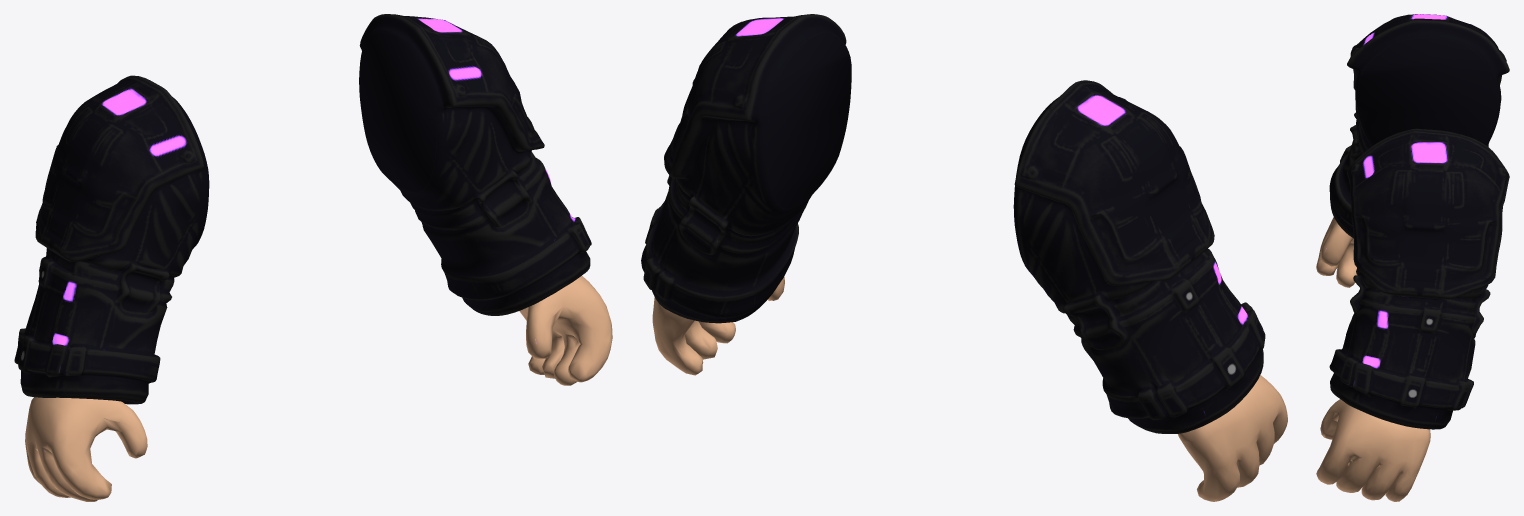
File: Hand_low.glb
3 renders of one model, left to right at view 1: azimuth 30°, elevation 25°; view 2: azimuth 150°, elevation 25°; view 3: azimuth 270°, elevation 25°, orthographic. The views are drawn at different scales.
Visible parts, largest first — view 1: Hand_low; view 2: Hand_low; view 3: Hand_low.
Part boxes in pixels (x1,y1,x2,y2): Hand_low: (14,14,612,501); Hand_low: (641,14,1287,501); Hand_low: (1316,14,1509,501).
Bounding box in the file's own units: 0.8299 × 0.5217 × 0.2836.
Materials: 1 (1 with a texture image).
